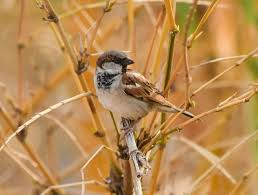hsparrow: (87, 48, 201, 148)
